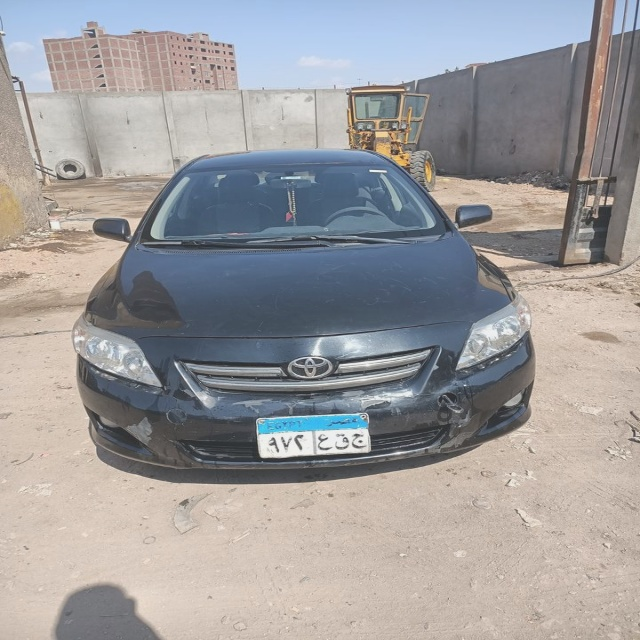License Plate: (255, 411, 372, 462)
